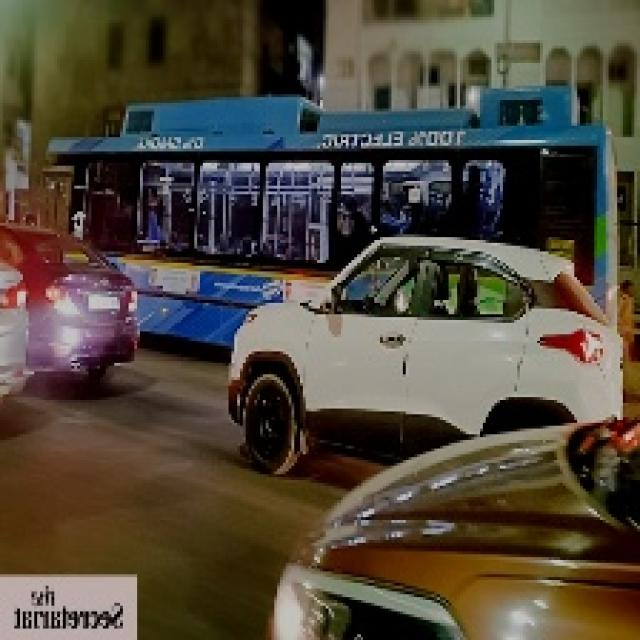car: (220, 236, 625, 479), (5, 209, 142, 384)
